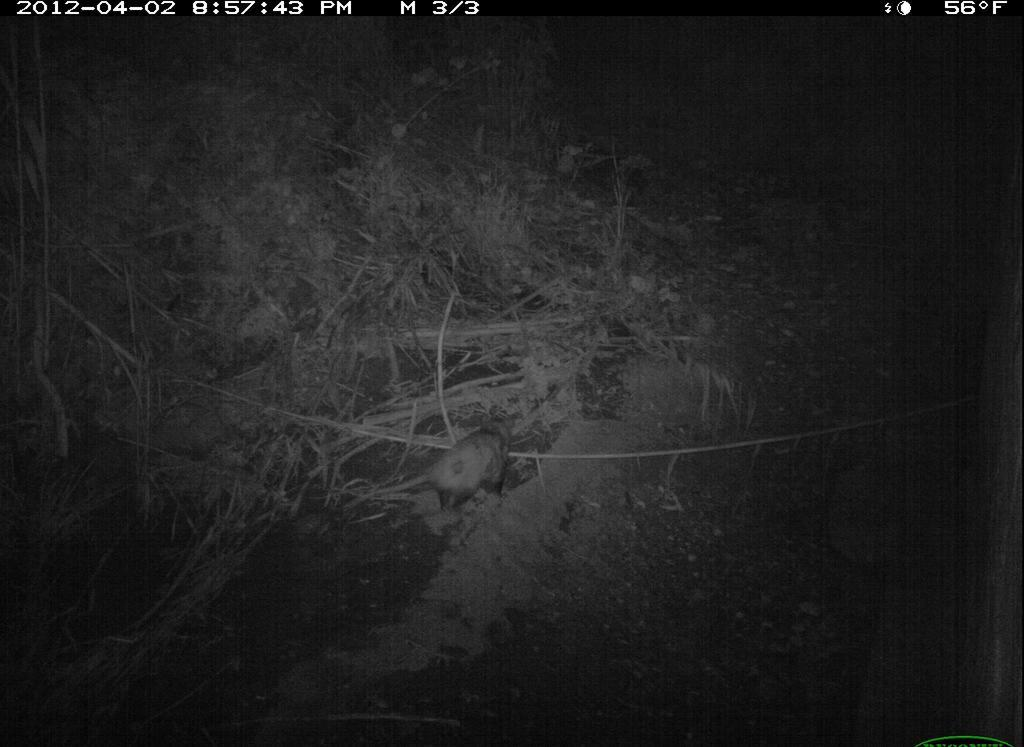opossum: (347, 414, 521, 525)
